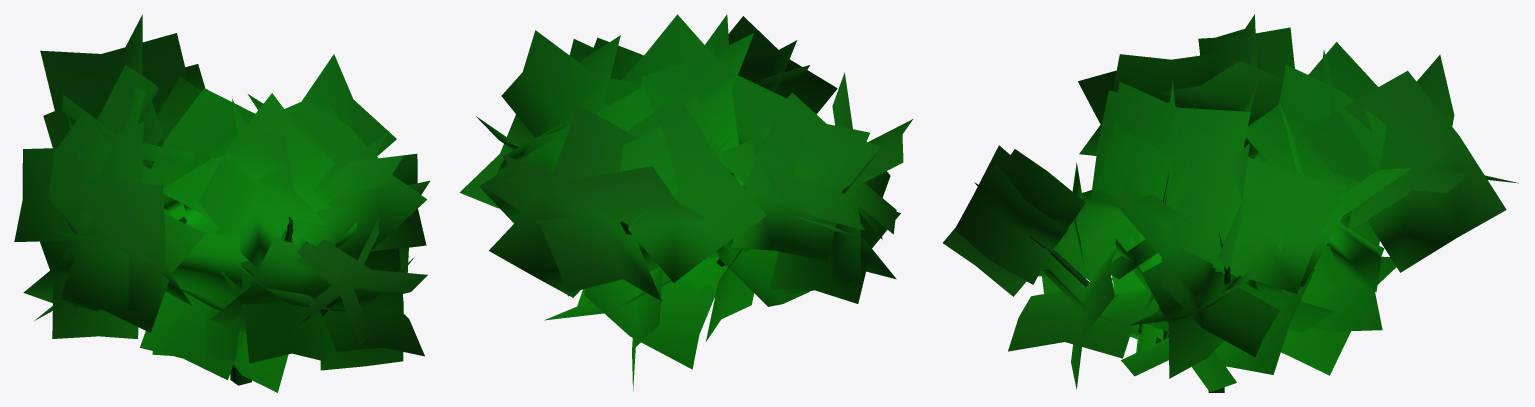
File: env_nature_foliage_boxwood_lod0.fbx
3 views of the same model, side by side, from view 1: azimuth 30°, elevation 25°; view 2: azimuth 150°, elevation 25°; view 3: azimuth 270°, elevation 25° (orthographic). The views are drawn at different scales.
Visible parts, largest first — view 1: env_nature_foliage_boxwood_lod0; view 2: env_nature_foliage_boxwood_lod0; view 3: env_nature_foliage_boxwood_lod0.
Part boxes in pixels (bbox=[...]): env_nature_foliage_boxwood_lod0: bbox=[14, 14, 430, 392]; env_nature_foliage_boxwood_lod0: bbox=[459, 14, 912, 391]; env_nature_foliage_boxwood_lod0: bbox=[943, 14, 1518, 392].
Bounding box in the file's own units: 12.78 × 9.5 × 15.78.
